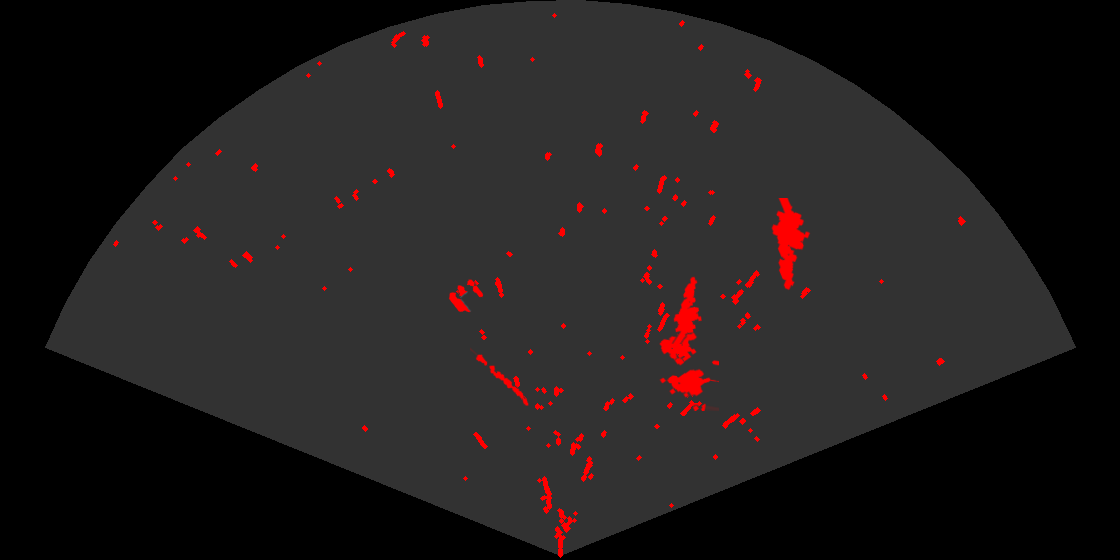ball: (447, 278, 485, 314)
cage: (658, 329, 719, 411)
chain: (470, 346, 530, 408)
frogman: (770, 198, 812, 292), (671, 275, 703, 344)
